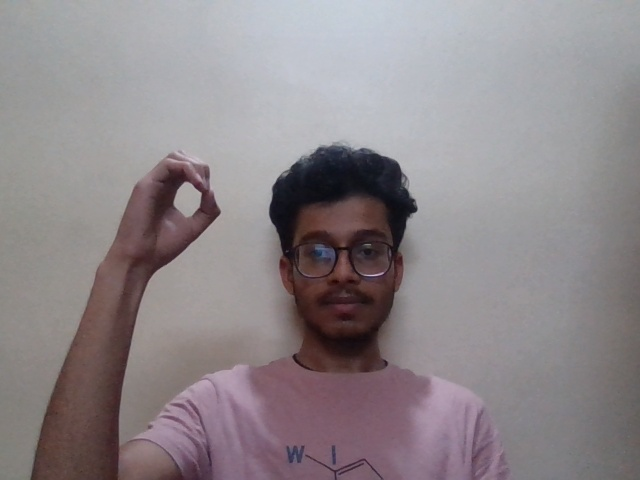O: (102, 146, 234, 268)
